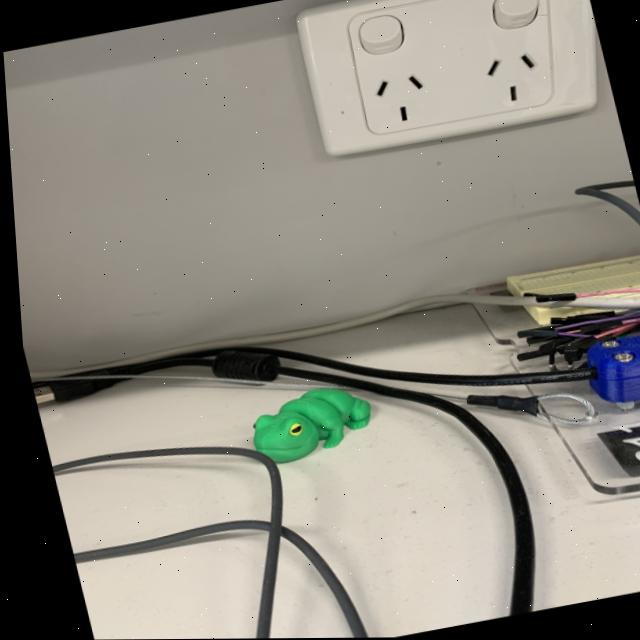frog: (223, 371, 390, 477)
